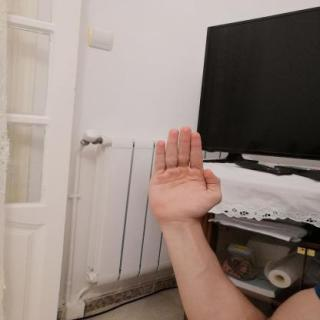SEEN: (140, 123, 228, 230)
